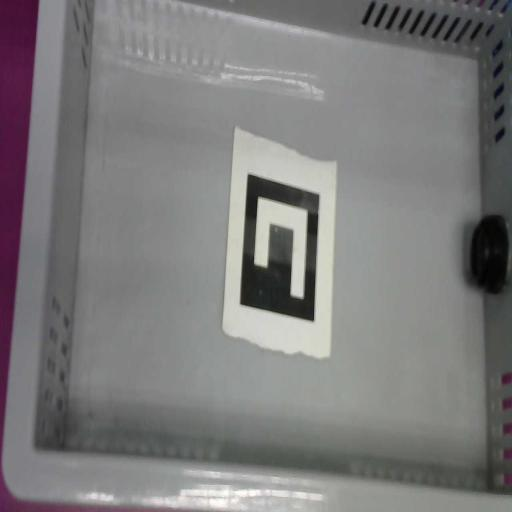QR: (220, 125, 338, 360)
